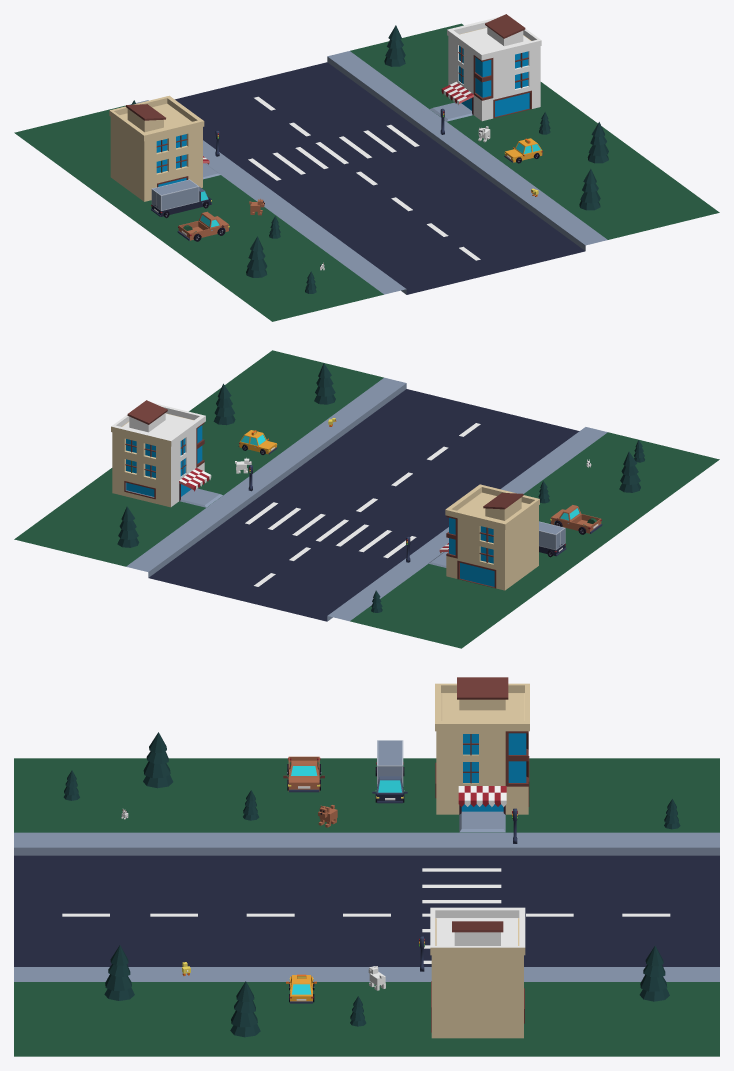
File: Road5.fbx
3 views of the same model, one above another, from view 1: azimuth 30°, elevation 25°; view 2: azimuth 150°, elevation 25°; view 3: azimuth 270°, elevation 25° (orthographic). The views are drawn at different scales.
Parts seen in each view (by area): view 1: Road5; view 2: Road5; view 3: Road5.
Boxes of the visible parts, x1,y1,x2,y2 form: Road5: (14, 14, 719, 321); Road5: (14, 350, 719, 648); Road5: (14, 677, 719, 1056).
Bounding box in the file's own units: 20 × 3.49 × 20.
